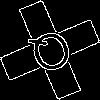Q: (25, 25, 80, 85)
